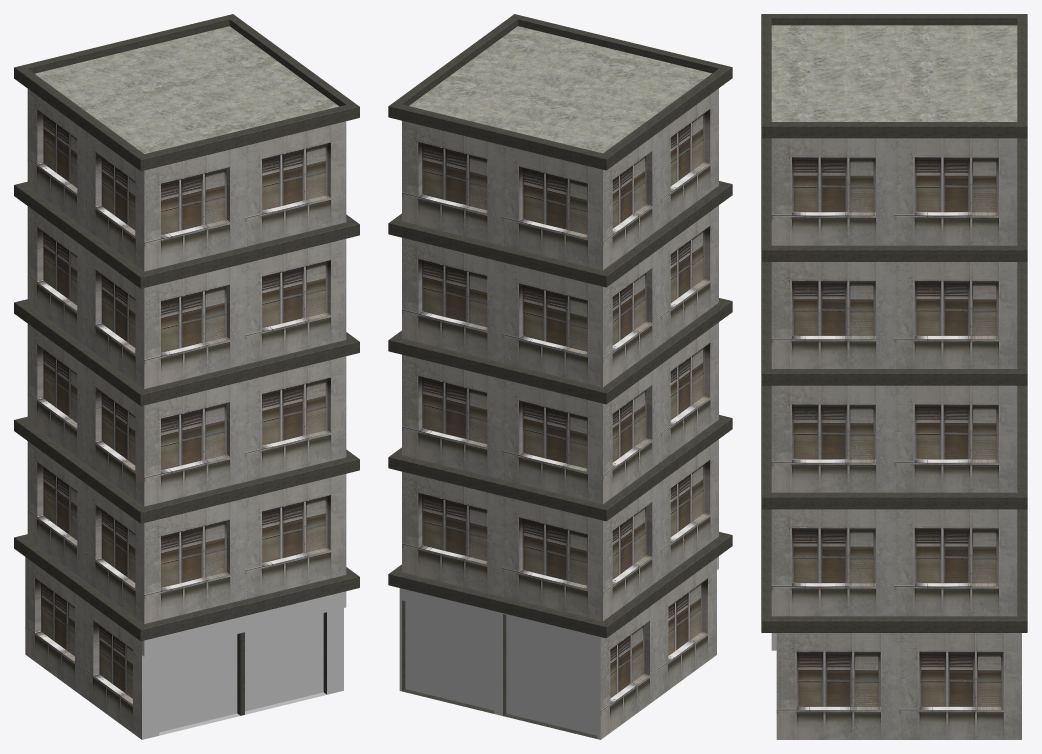
File: CT_door_046.fbx
3 views of the same model, side by side, from view 1: azimuth 30°, elevation 25°; view 2: azimuth 150°, elevation 25°; view 3: azimuth 270°, elevation 25° (orthographic). The views are drawn at different scales.
Parts seen in each view (by area): view 1: CT_door_046; view 2: CT_door_046; view 3: CT_door_046.
Boxes of the visible parts, <box> form: CT_door_046: <box>14,14,359,739</box>; CT_door_046: <box>388,14,732,739</box>; CT_door_046: <box>761,14,1027,739</box>.
Size of the model in its own units: 555 by 1422 by 555.
